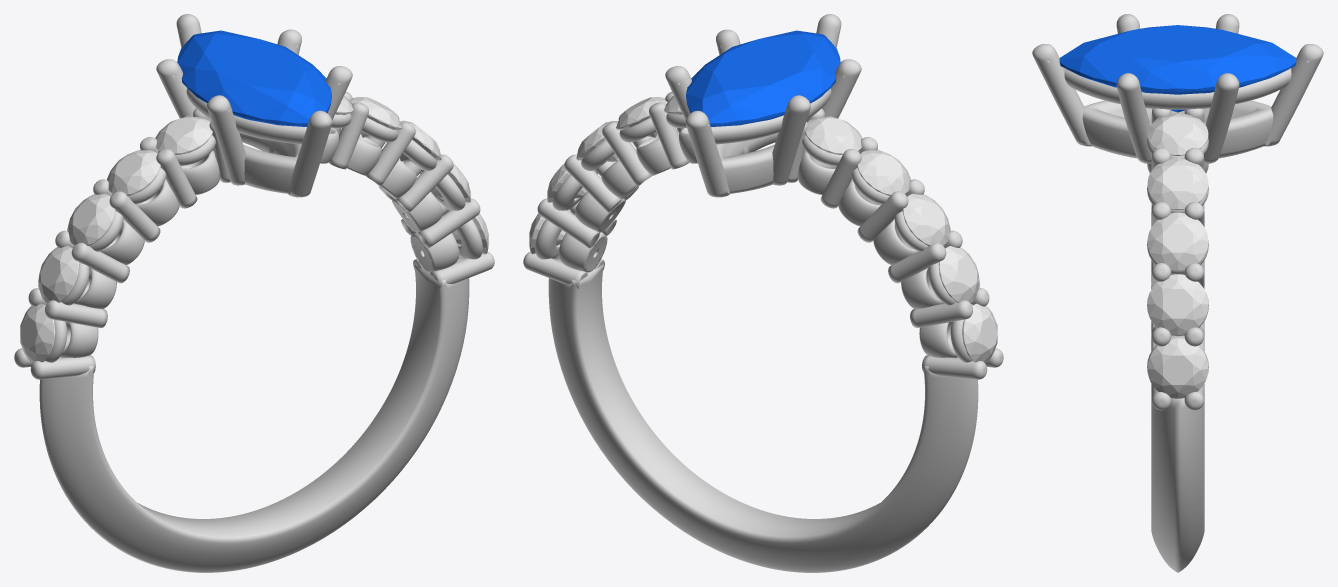
The model's file is bluesapphire-marquise-platinum-6prong-knifeedge-11stone.glb.
3 views of the same model, side by side, from view 1: azimuth 30°, elevation 25°; view 2: azimuth 150°, elevation 25°; view 3: azimuth 270°, elevation 25° (orthographic).
Parts seen in each view (by area): view 1: metal.001, stone.001, dia.014, dia.013, dia.015, dia.001, dia.016, dia.020; view 2: metal.001, stone.001, dia.014, dia.013, dia.015, dia.001, dia.016, dia.020; view 3: metal.001, stone.001, dia.018, dia.017, dia.019, dia.020, dia.021.
Boxes of the visible parts, x1,y1,x2,y2 form: metal.001: (14,14,494,572); stone.001: (177,30,331,126); dia.014: (67,193,115,245); dia.013: (38,246,79,302); dia.015: (107,150,160,195); dia.001: (20,303,55,362); dia.016: (155,116,212,154); dia.020: (350,97,401,137); metal.001: (523,14,1003,572); stone.001: (686,30,840,126); dia.014: (902,193,950,245); dia.013: (938,246,979,302); dia.015: (857,150,910,195); dia.001: (962,303,997,362); dia.016: (805,116,862,155); dia.020: (616,97,667,137); metal.001: (1032,14,1323,572); stone.001: (1059,25,1296,112); dia.018: (1147,274,1208,334); dia.017: (1147,338,1208,398); dia.019: (1147,212,1208,270); dia.020: (1147,158,1208,209); dia.021: (1147,113,1208,155).
Size of the model in its own units: 21.88 by 22.93 by 11.96.
